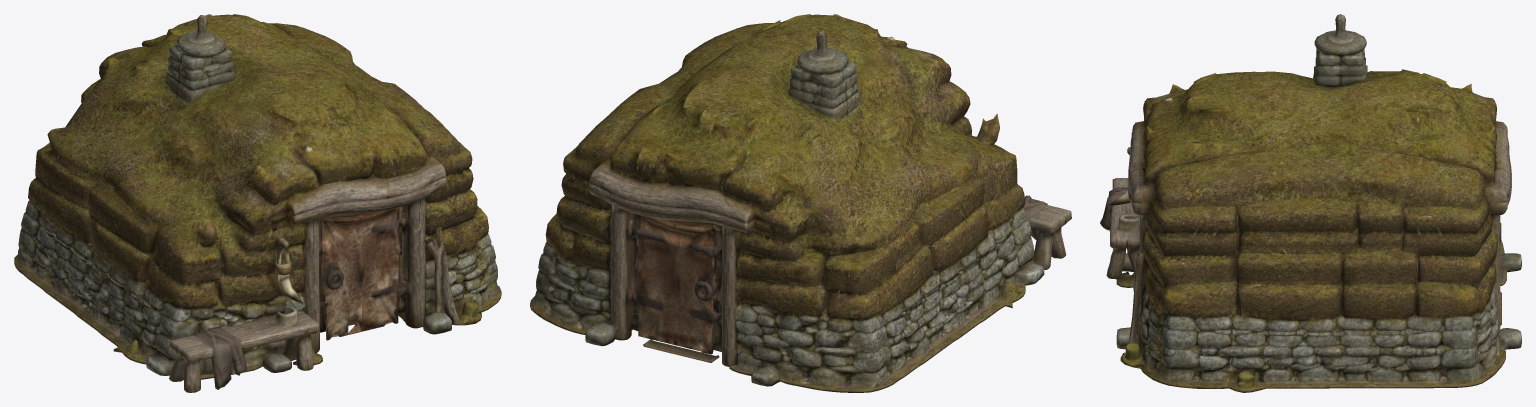
The model's file is lm_cutters_bothy.glb.
3 renders of one model, left to right at view 1: azimuth 30°, elevation 25°; view 2: azimuth 150°, elevation 25°; view 3: azimuth 270°, elevation 25°, orthographic. The views are drawn at different scales.
Visible parts, largest first — view 1: lm_cutters_bothy; view 2: lm_cutters_bothy; view 3: lm_cutters_bothy.
Part boxes in pixels (x1,y1,x2,y2): lm_cutters_bothy: (14,14,501,392); lm_cutters_bothy: (530,14,1071,392); lm_cutters_bothy: (1100,14,1521,392).
Size of the model in its own units: 4.58 by 3.23 by 4.6.
1 material, 1 textured.
